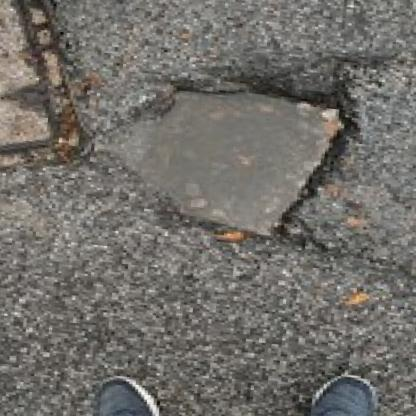pothole: (90, 60, 368, 249)
